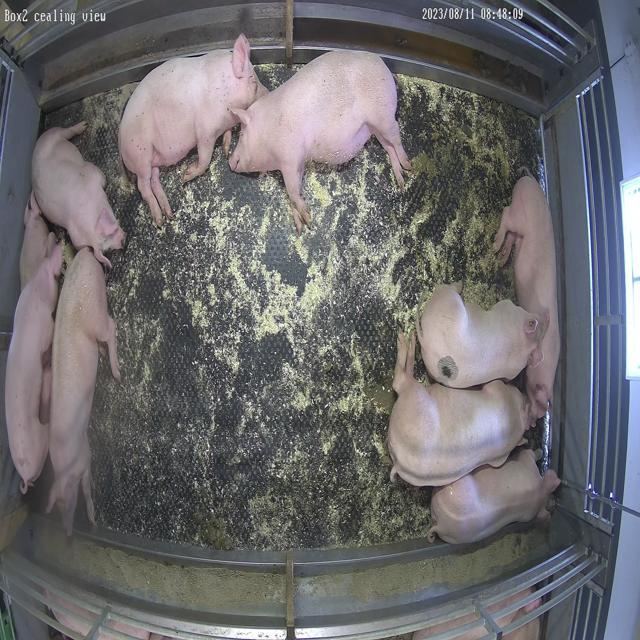Dirt: (406, 96, 540, 184), (365, 384, 397, 416)
Pig: (229, 52, 412, 232), (118, 35, 268, 226), (389, 335, 531, 487), (46, 248, 120, 536), (495, 176, 562, 420), (4, 244, 62, 494), (32, 121, 125, 266), (418, 284, 545, 388), (431, 449, 562, 545), (19, 193, 55, 290)
